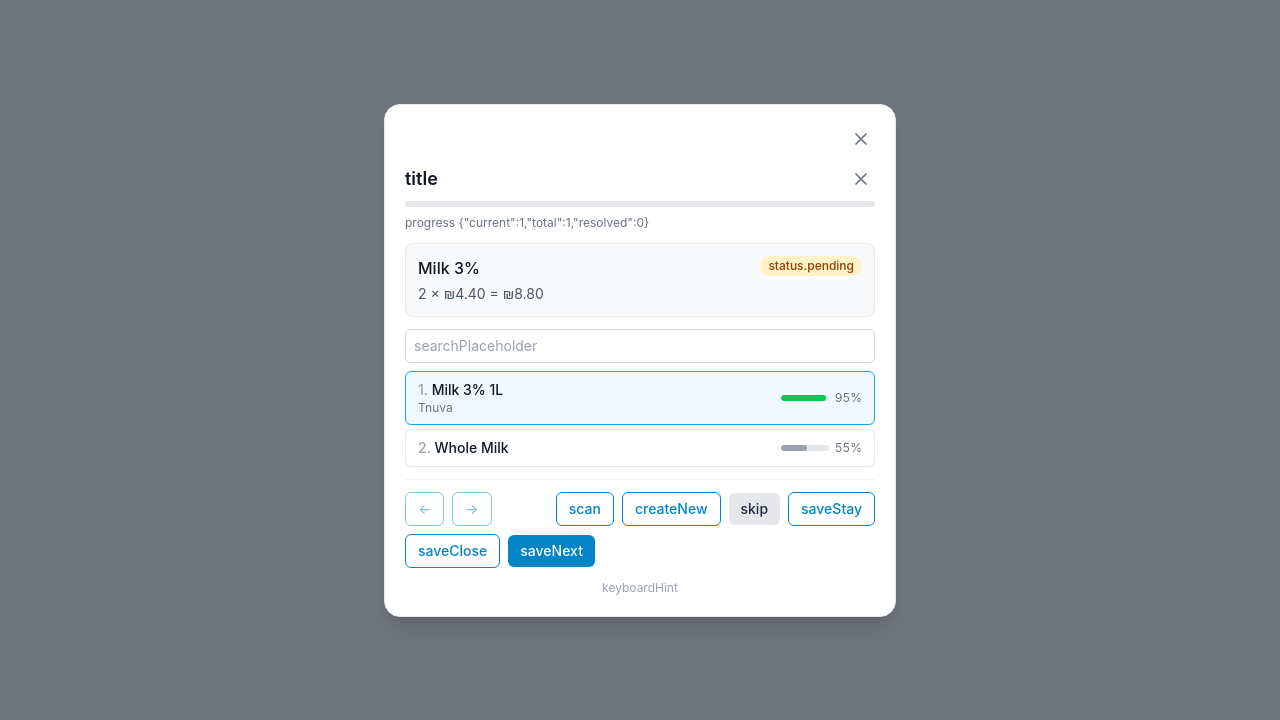
it: ItemWalkthroughDialog › searching the registry appends unseen results as options
Type "milk" into the search field with test id "walkthrough-search".
click(640, 346); type("milk")  # box [405, 328, 875, 362]
Wait 400 ms
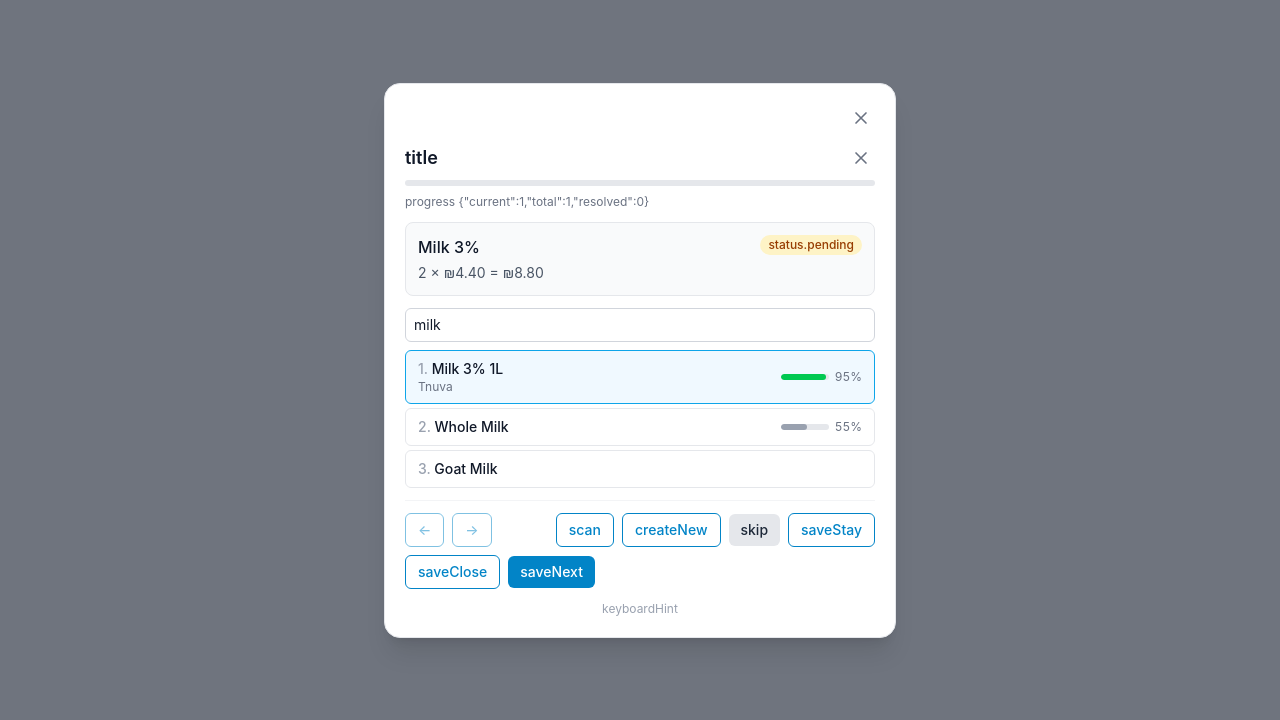
Result: the number of options is 3 at [405, 350, 875, 404]; [405, 408, 875, 446]; [405, 450, 875, 488]
Result: the option with test id "walkthrough-candidate-2" shows "Goat Milk" at [405, 450, 875, 488]
